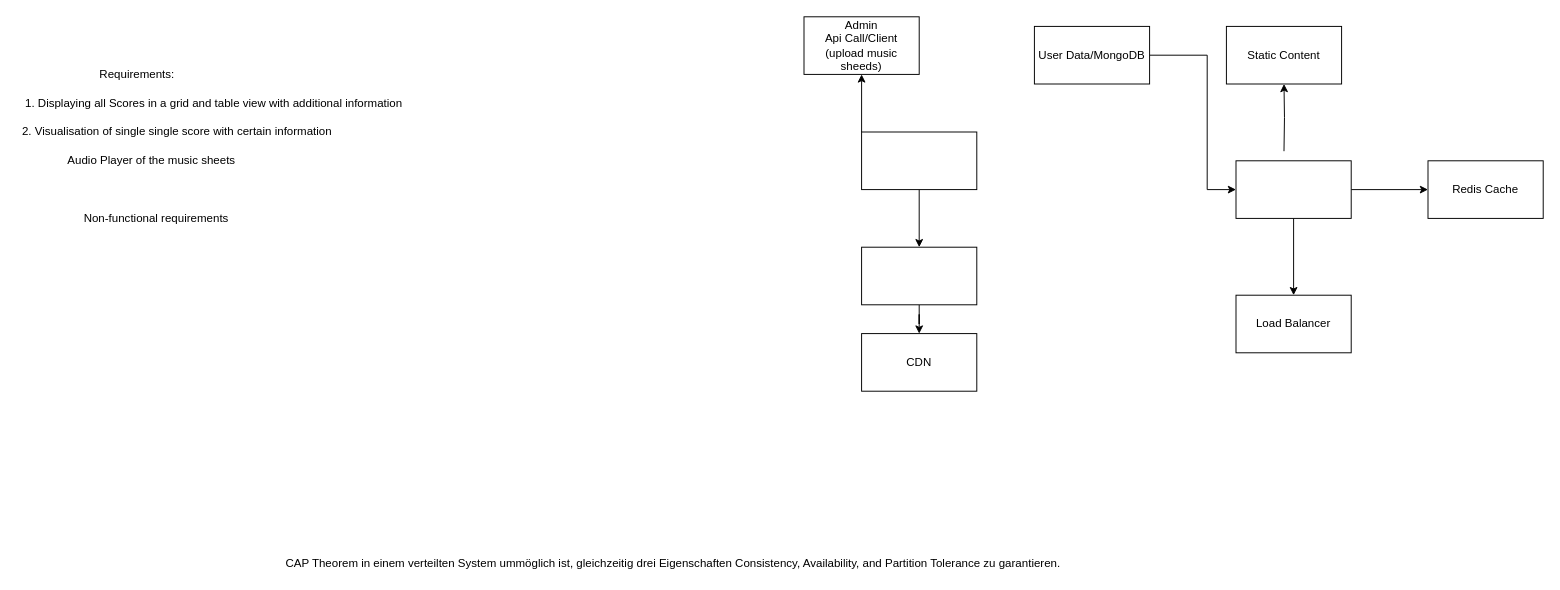
Image size: 1560x590. Some labels were removed from this diagram. Each missing label, with the centre of its shape:
"API Service" belongs at point 1293,189.
"Blob Store (S3)" belongs at point 919,160.
"CDN Population" belongs at point 919,275.
